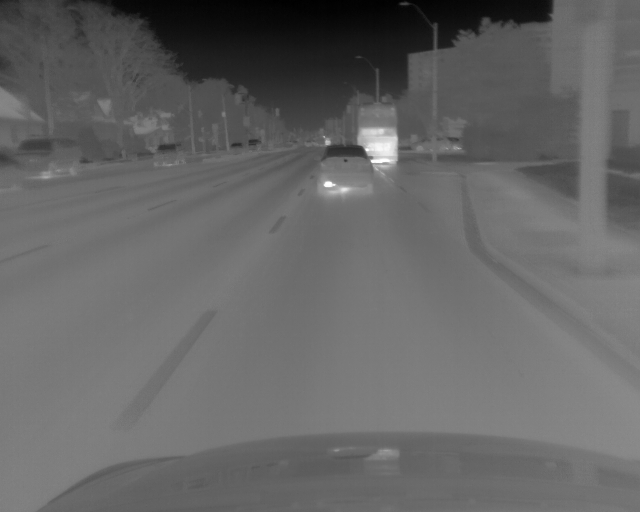car: (14, 136, 84, 181), (346, 102, 396, 164), (316, 144, 375, 195), (412, 134, 457, 153), (151, 142, 183, 168), (247, 138, 262, 153), (228, 142, 241, 154)
